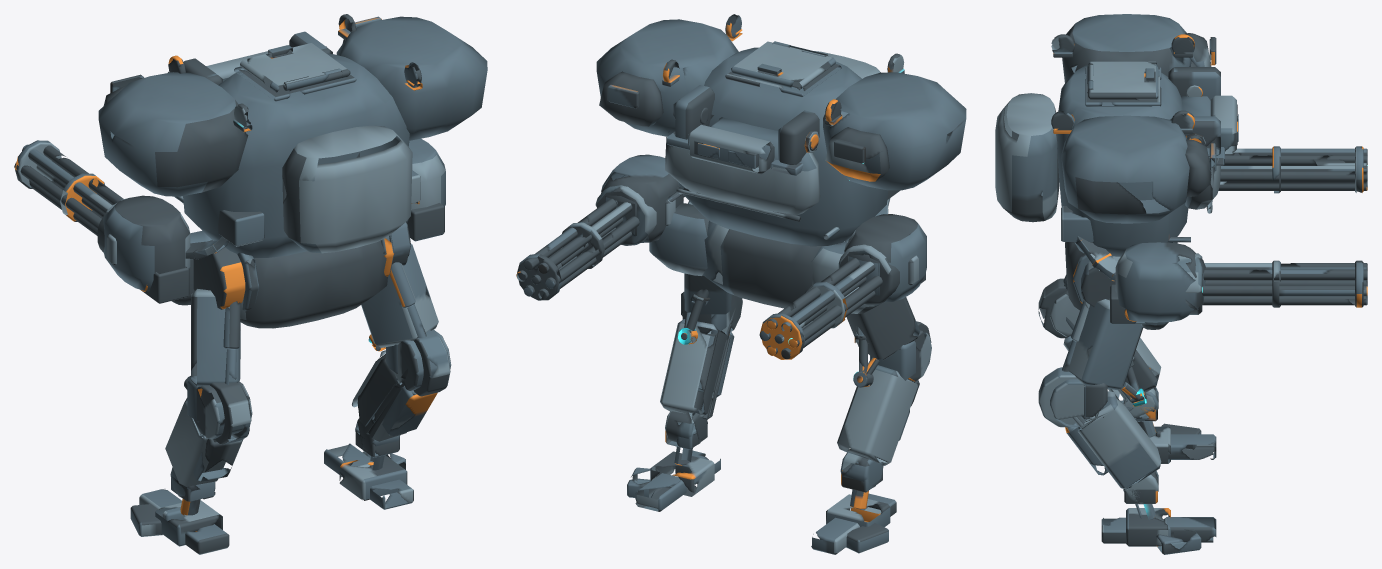
Rendered from IroncladWalker_Atlas.fbx.
3 views of the same model, side by side, from view 1: azimuth 30°, elevation 25°; view 2: azimuth 150°, elevation 25°; view 3: azimuth 270°, elevation 25° (orthographic). The views are drawn at different scales.
Parts seen in each view (by area): view 1: IroncladWalker_UnifiedMesh; view 2: IroncladWalker_UnifiedMesh; view 3: IroncladWalker_UnifiedMesh.
Part boxes in pixels (x1,y1,x2,y2): IroncladWalker_UnifiedMesh: (14, 14, 487, 554); IroncladWalker_UnifiedMesh: (516, 14, 966, 554); IroncladWalker_UnifiedMesh: (995, 14, 1367, 554).
Bounding box in the file's own units: 202 × 249 × 198.
Materials: 1 (1 with a texture image).
